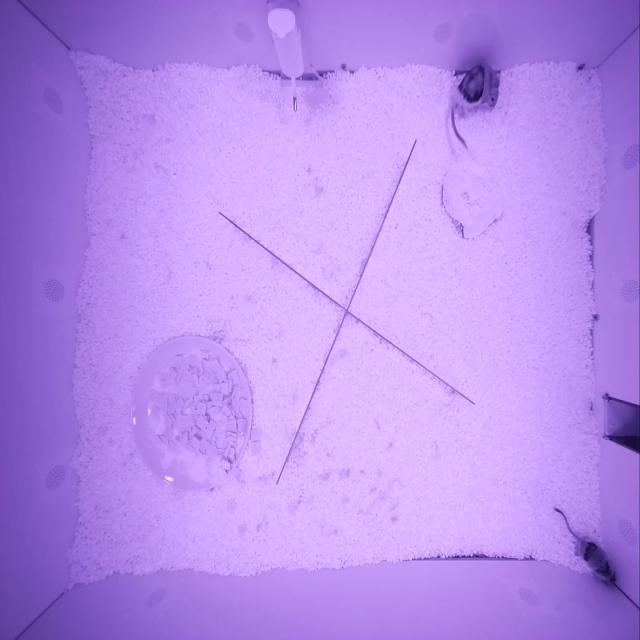adult_back: (452, 63, 499, 111)
pup_h_stripe: (576, 539, 616, 584)
